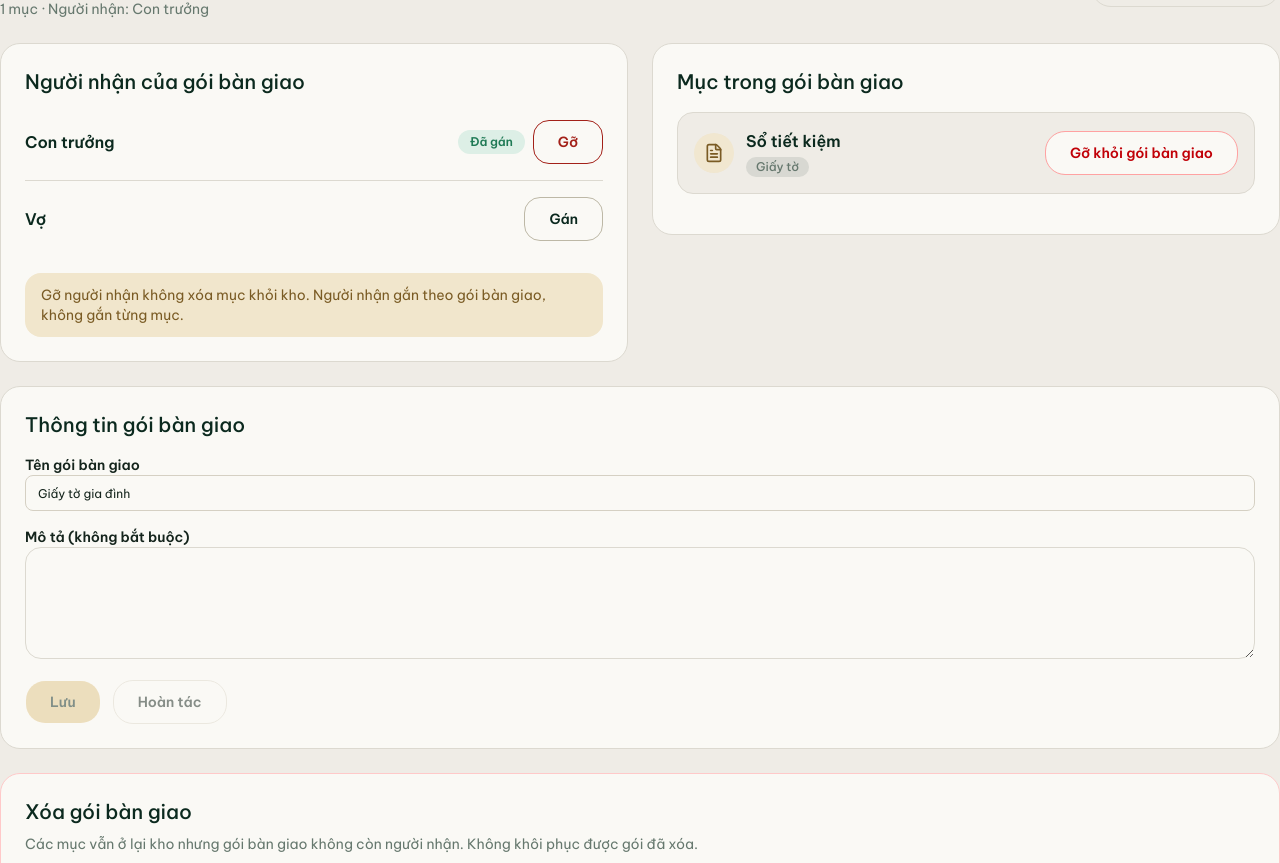
Scenario: chi tiết gói bàn giao › gói Free bị chặn thì giữ lỗi của Backend kèm đường nâng cấp
Click the button "Gán ": click(564, 219) left=524, top=197, right=603, bottom=241
(page scrolled)
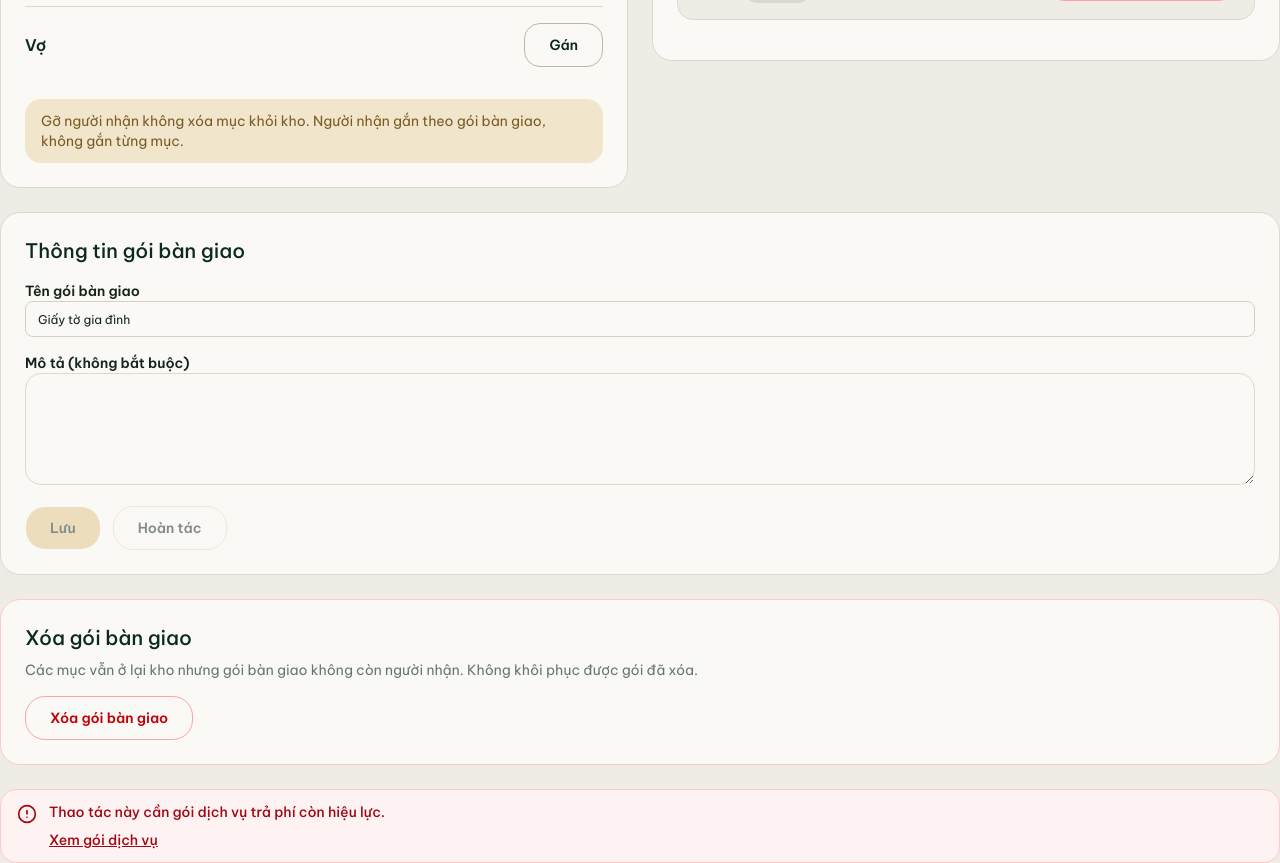
Expected: the message shows "gói dịch vụ trả phí", left=49, top=803, right=385, bottom=821
